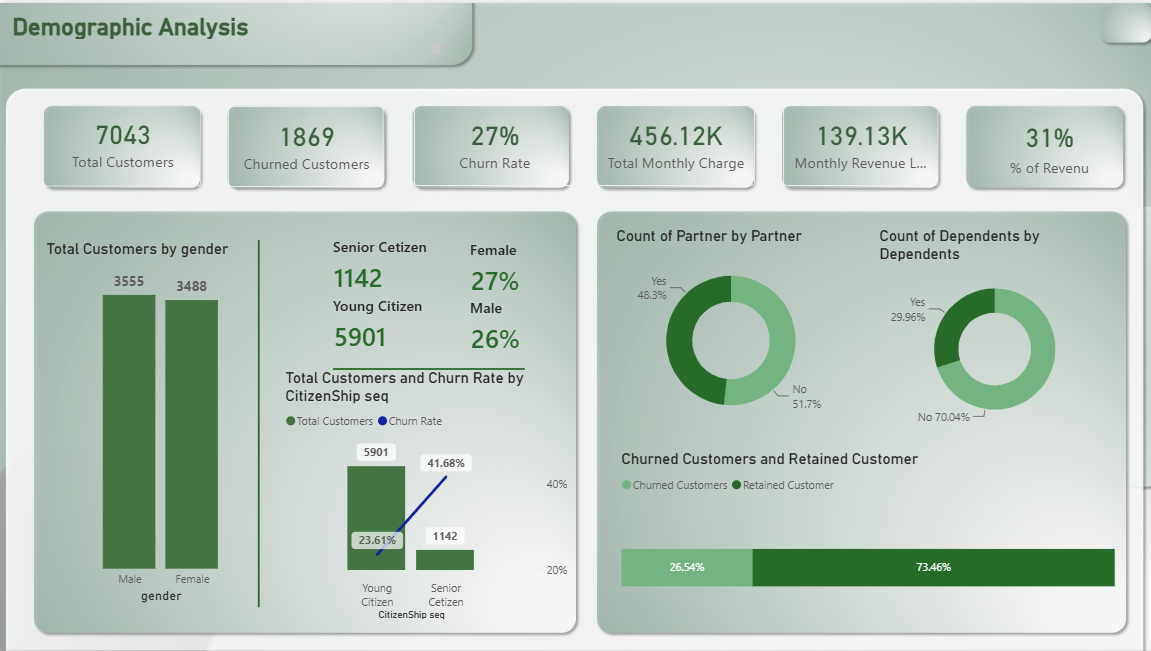

The dashboard page shown, as its layout file describes it:
{"tool":"powerbi","page":{"name":"Demographic","canvas":[1280,720],"ordinal":0},"visuals":[{"type":"cardVisual","fields":{"Data":["KPIS Measures.Customer"]},"box":[46.5,109.1,178.8,96.5],"z":0},{"type":"cardVisual","fields":{"Data":["KPIS Measures.Churned Customers"]},"box":[252,112.9,175.4,92.7],"z":1000},{"type":"cardVisual","fields":{"Data":["KPIS Measures.Churn Rate"]},"box":[459.4,112.6,180.6,92],"z":2000},{"type":"cardVisual","fields":{"Data":["KPIS Measures.Total Month Charge"]},"box":[659.7,112.6,180.6,93],"z":3000},{"type":"cardVisual","fields":{"Data":["KPIS Measures.Monthly Revenue Loss"]},"box":[868.8,112.6,175.2,93],"z":4000},{"type":"card","fields":{"Values":["KPIS Measures.% of Revenu"]},"box":[1086.9,112.6,159.1,93],"z":5000},{"type":"textbox","title":"Demographic Analysis","box":[9.1,10.1,484.8,52.4],"z":6000},{"type":"columnChart","fields":{"Category":["01 Churn-Dataset.gender"],"Y":["KPIS Measures.Total Customers"]},"box":[46.4,263.1,265.1,408.2],"z":7000},{"type":"donutChart","fields":{"Y":["CountNonNull(01 Churn-Dataset.Dependents)"],"Category":["01 Churn-Dataset.Dependents"]},"box":[972.7,249.2,266,233.2],"z":8000},{"type":"donutChart","fields":{"Category":["01 Churn-Dataset.Partner"],"Y":["CountNonNull(01 Churn-Dataset.Partner)"]},"box":[680.1,249.2,264.2,233.2],"z":9000},{"type":"cardVisual","fields":{"Rows":["01 Churn-Dataset.gender"],"Data":["KPIS Measures.Churn Rate"]},"box":[521.7,236.7,123.3,170],"z":10000},{"type":"cardVisual","fields":{"Rows":["01 Churn-Dataset.CitizenShip seq"],"Data":["KPIS Measures.Total Customers"]},"box":[370,233.3,123.3,173.3],"z":11000},{"type":"shape","box":[370,376.7,213.3,60],"z":12000},{"type":"shape","box":[263.3,263.3,48.3,408.3],"z":13000},{"type":"hundredPercentStackedBarChart","fields":{"Y":["KPIS Measures.Churned Customers","KPIS Measures.Retained Customer"]},"box":[685,496.7,558.3,208.3],"z":14000},{"type":"lineClusteredColumnComboChart","fields":{"Category":["01 Churn-Dataset.CitizenShip seq"],"Y":["KPIS Measures.Total Customers"],"Y2":["KPIS Measures.Churn Rate"]},"box":[311.7,406.7,323.3,283.3],"z":14001}]}

Visuals, with their boxes in screenshot pixels (x1, y1, x2, y2), scaled from the page's 1280x720 canvas onto the 1151x651 screenshot:
cardVisual - KPIS Measures.Customer: 42 99 203 186
cardVisual - KPIS Measures.Churned Customers: 227 102 384 186
cardVisual - KPIS Measures.Churn Rate: 413 102 576 185
cardVisual - KPIS Measures.Total Month Charge: 593 102 756 186
cardVisual - KPIS Measures.Monthly Revenue Loss: 781 102 939 186
card - KPIS Measures.% of Revenu: 977 102 1120 186
"Demographic Analysis" textbox: 8 9 444 57
columnChart - 01 Churn-Dataset.gender x KPIS Measures.Total Customers: 42 238 280 607
donutChart - CountNonNull(01 Churn-Dataset.Dependents) x 01 Churn-Dataset.Dependents: 875 225 1114 436
donutChart - 01 Churn-Dataset.Partner x CountNonNull(01 Churn-Dataset.Partner): 612 225 849 436
cardVisual - 01 Churn-Dataset.gender x KPIS Measures.Churn Rate: 469 214 580 368
cardVisual - 01 Churn-Dataset.CitizenShip seq x KPIS Measures.Total Customers: 333 211 444 368
shape: 333 341 525 395
shape: 237 238 280 607
hundredPercentStackedBarChart - KPIS Measures.Churned Customers x KPIS Measures.Retained Customer: 616 449 1118 637
lineClusteredColumnComboChart - 01 Churn-Dataset.CitizenShip seq x KPIS Measures.Total Customers: 280 368 571 624
